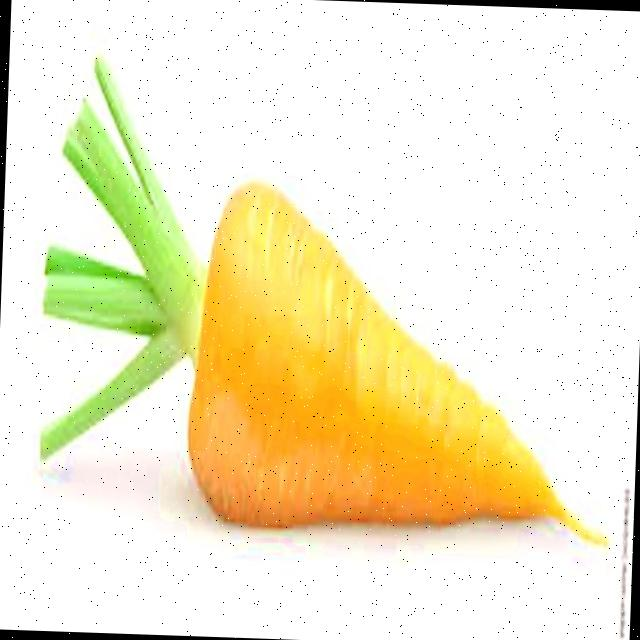carrot: (42, 60, 606, 543)
